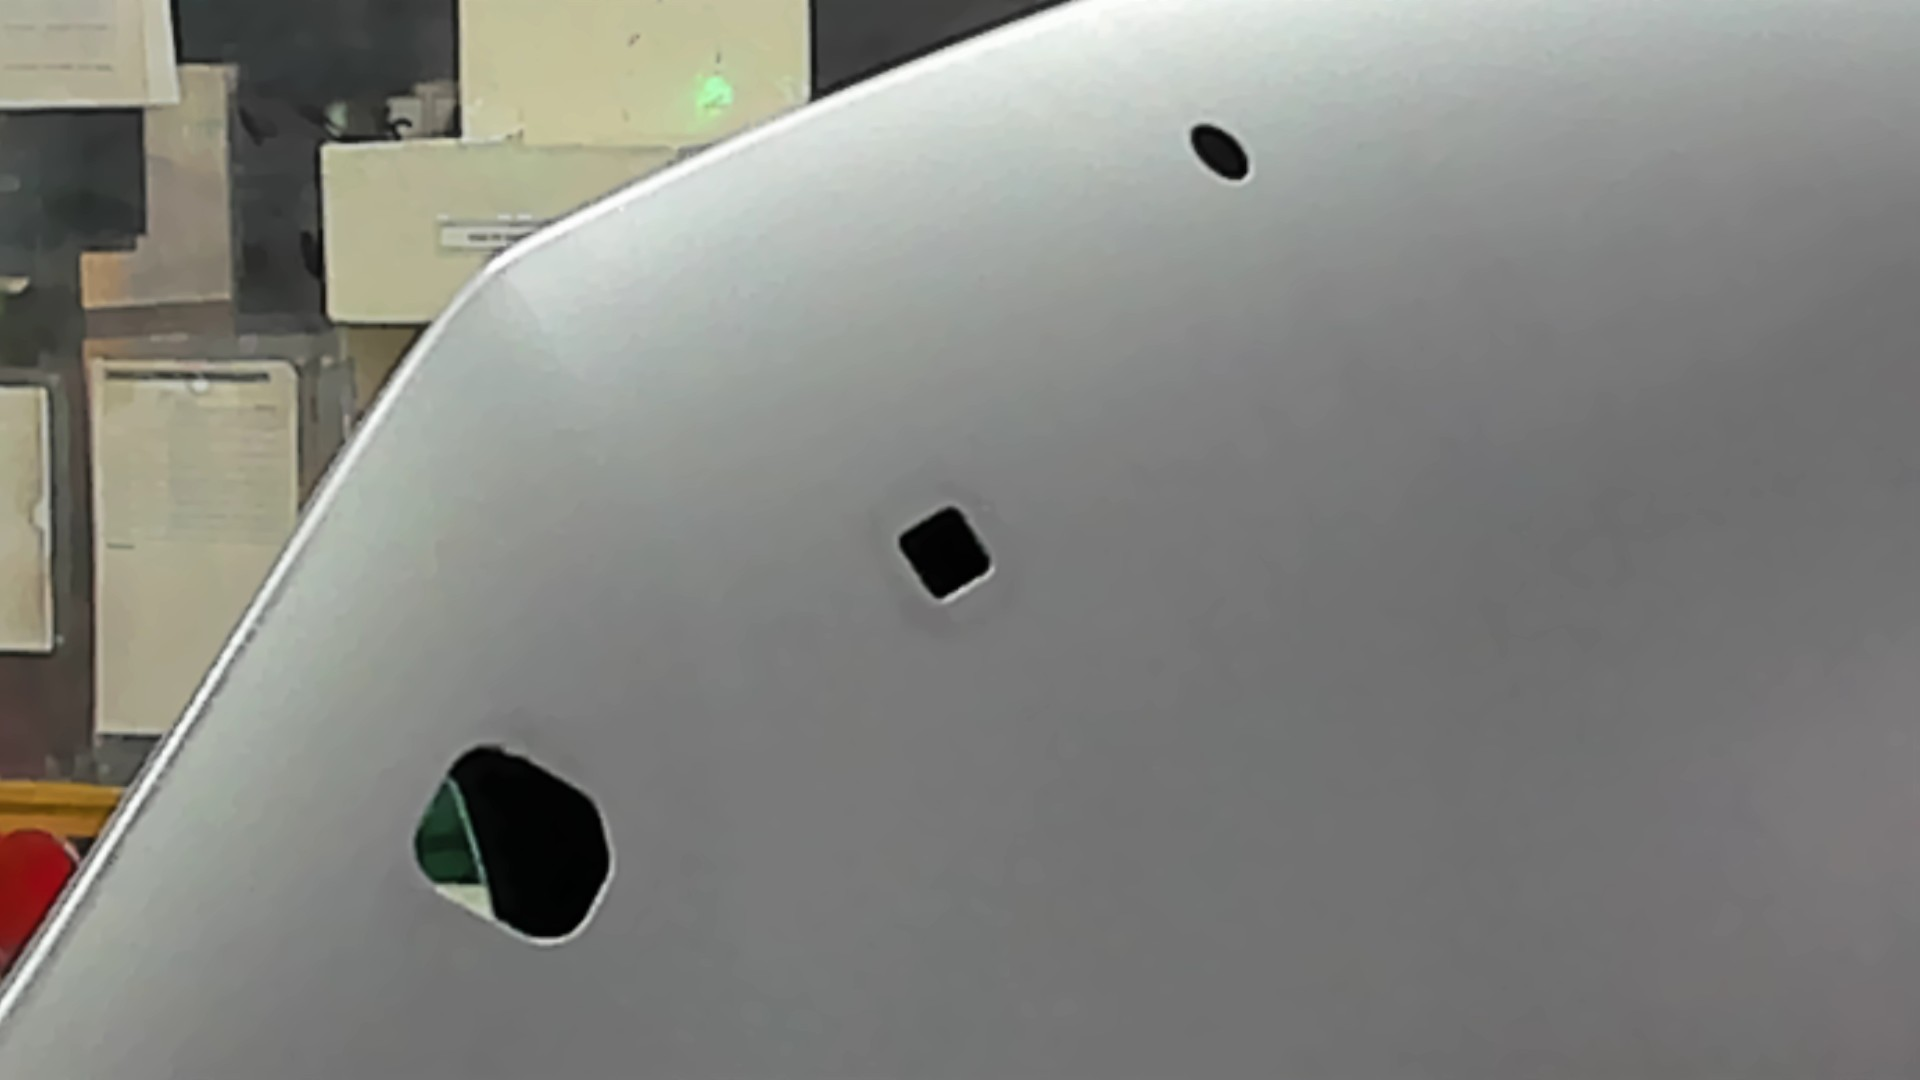chico: (1171, 113, 1276, 195)
grande: (389, 732, 629, 967)
mediano: (880, 496, 1011, 618)
